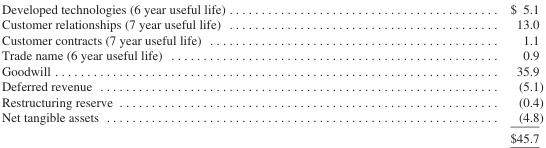table: (1, 1, 542, 144)
table column: (1, 1, 367, 144), (367, 1, 542, 144)
table row: (1, 109, 542, 127), (1, 127, 542, 144), (1, 31, 542, 47), (1, 62, 542, 78), (1, 93, 542, 109), (1, 1, 542, 16), (1, 16, 542, 31), (1, 47, 542, 62), (1, 78, 542, 93)
